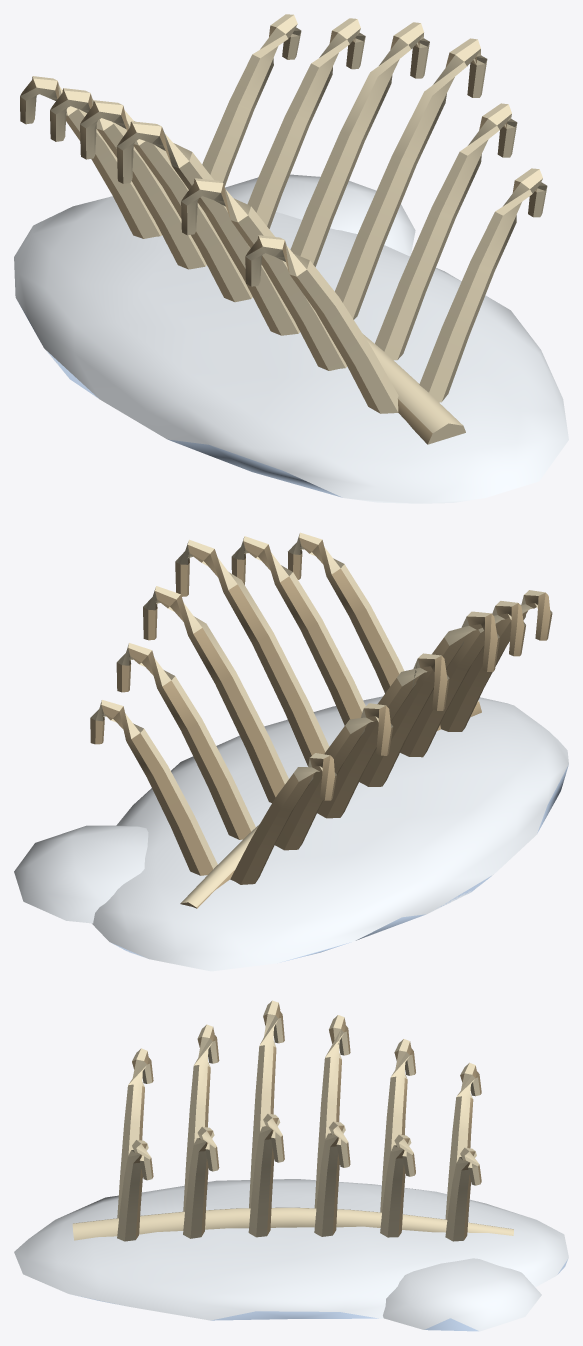
The model's file is RibCage.fbx.
The picture shows the model from 3 angles, top to bottom: view 1: azimuth 30°, elevation 25°; view 2: azimuth 150°, elevation 25°; view 3: azimuth 270°, elevation 25°; orthographic projection. The views are drawn at different scales.
Visible parts, largest first — view 1: RibCage; view 2: RibCage; view 3: RibCage.
Boxes of the visible parts, left/top/right/bottom form: RibCage: left=14, top=14, right=568, bottom=503; RibCage: left=14, top=532, right=568, bottom=971; RibCage: left=14, top=1000, right=568, bottom=1331.
Bounding box in the file's own units: 1.91 × 1.24 × 3.17.
Materials: 1 (1 with a texture image).
